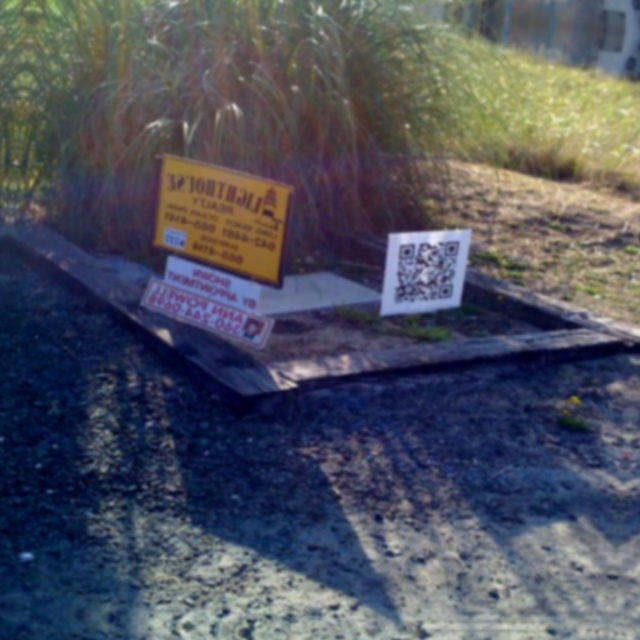qr-code: (394, 235, 460, 310)
